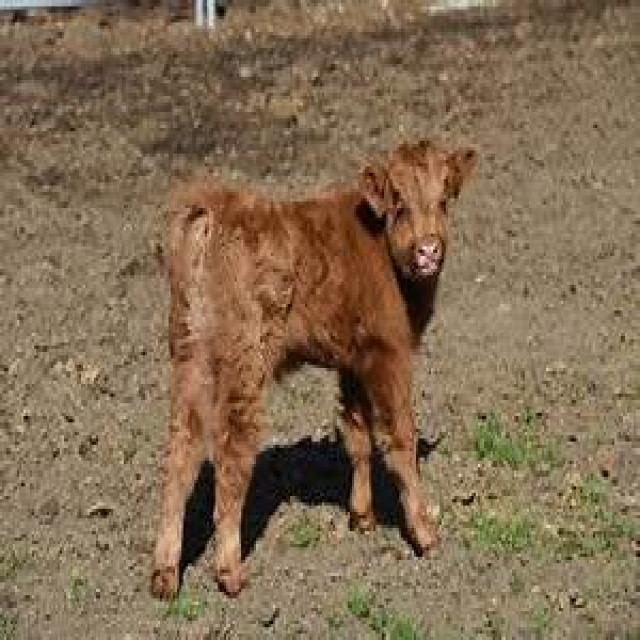cow: (151, 142, 475, 597)
